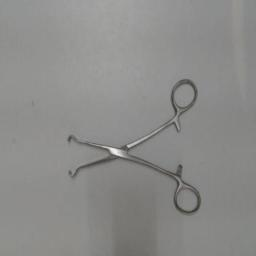Babcock Tissue Forceps: (62, 76, 204, 222)
